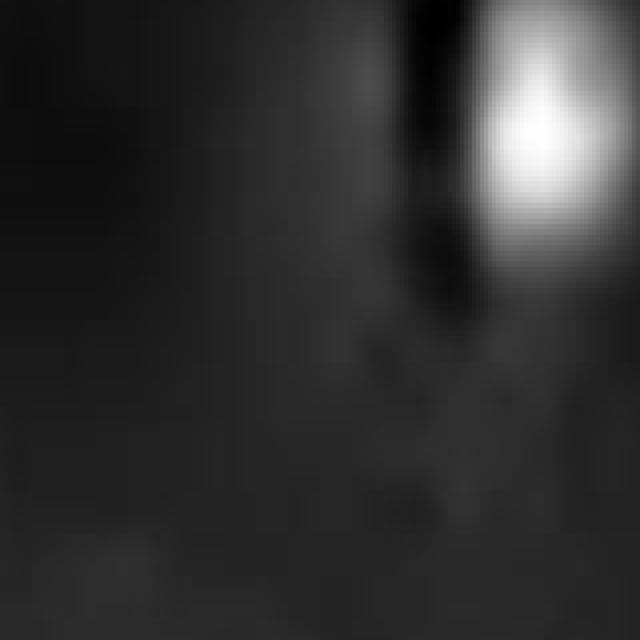person: (481, 1, 640, 369)
